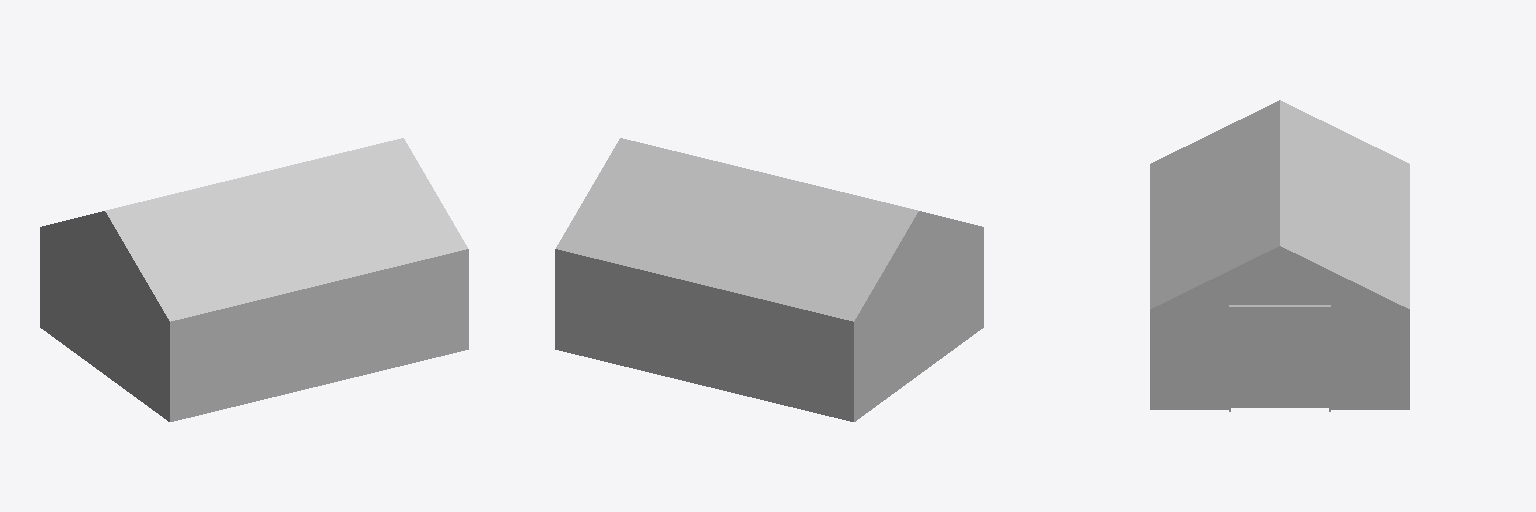
The model's file is Building_7.obj.
3 views of the same model, side by side, from view 1: azimuth 30°, elevation 25°; view 2: azimuth 150°, elevation 25°; view 3: azimuth 270°, elevation 25° (orthographic).
Visible parts, largest first — view 1: Building_7; view 2: Building_7; view 3: Building_7.
Boxes of the visible parts, x1,y1,x2,y2 form: Building_7: [40, 138, 468, 421]; Building_7: [555, 138, 983, 421]; Building_7: [1150, 100, 1409, 411].
Bounding box in the file's own units: 9.67 × 5.03 × 7.2.